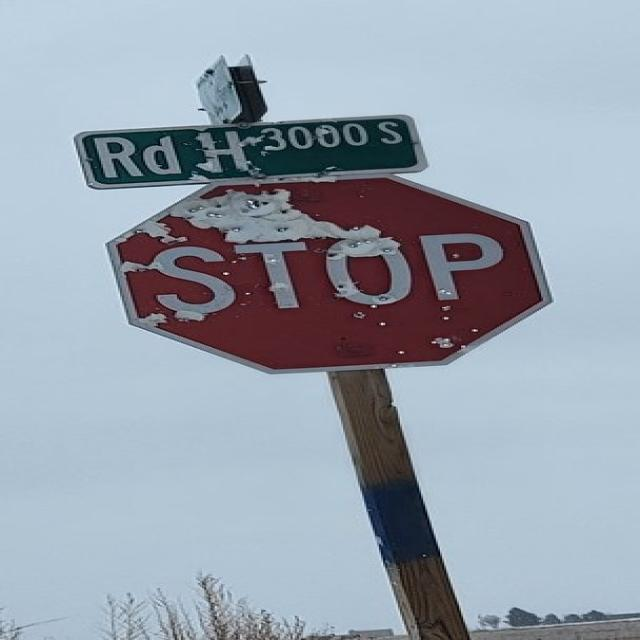Panneau-Stop: (80, 174, 562, 374)
